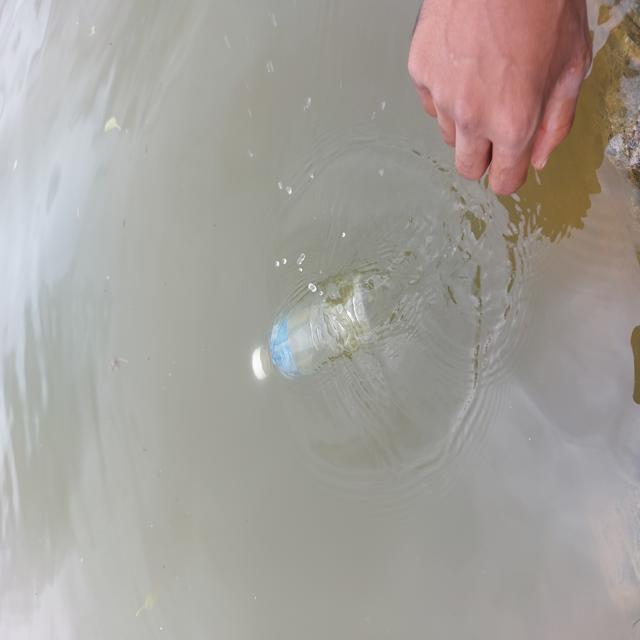waterbottle: (243, 268, 363, 389)
